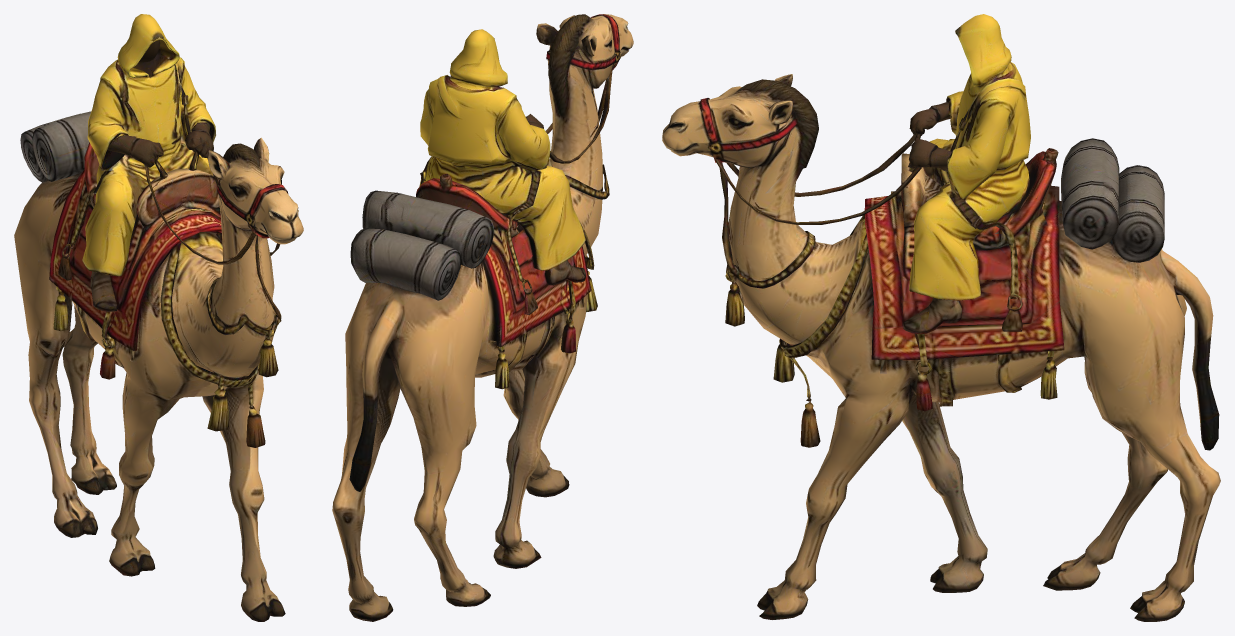
Rendered from cavaliere.glb.
3 views of the same model, side by side, from view 1: azimuth 30°, elevation 25°; view 2: azimuth 150°, elevation 25°; view 3: azimuth 270°, elevation 25° (orthographic). The views are drawn at different scales.
Bounding box in the file's own units: 0.2954 × 0.9512 × 0.8252.
Materials: 1 (1 with a texture image).
